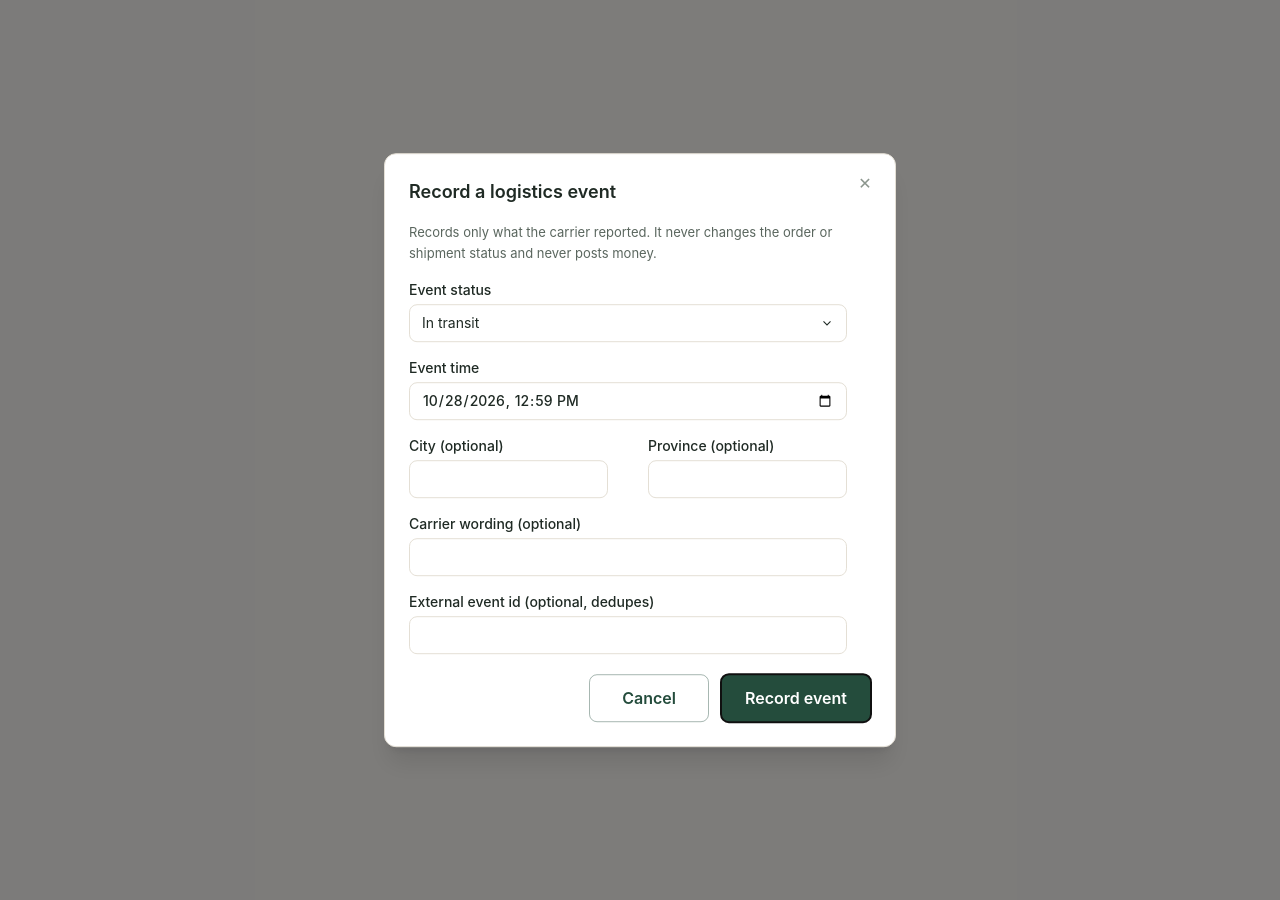
LogisticsEventDialog › keeps the dialog open and shows the server refusal
Click the button "Record event" at (796, 698), box [721, 674, 871, 722]
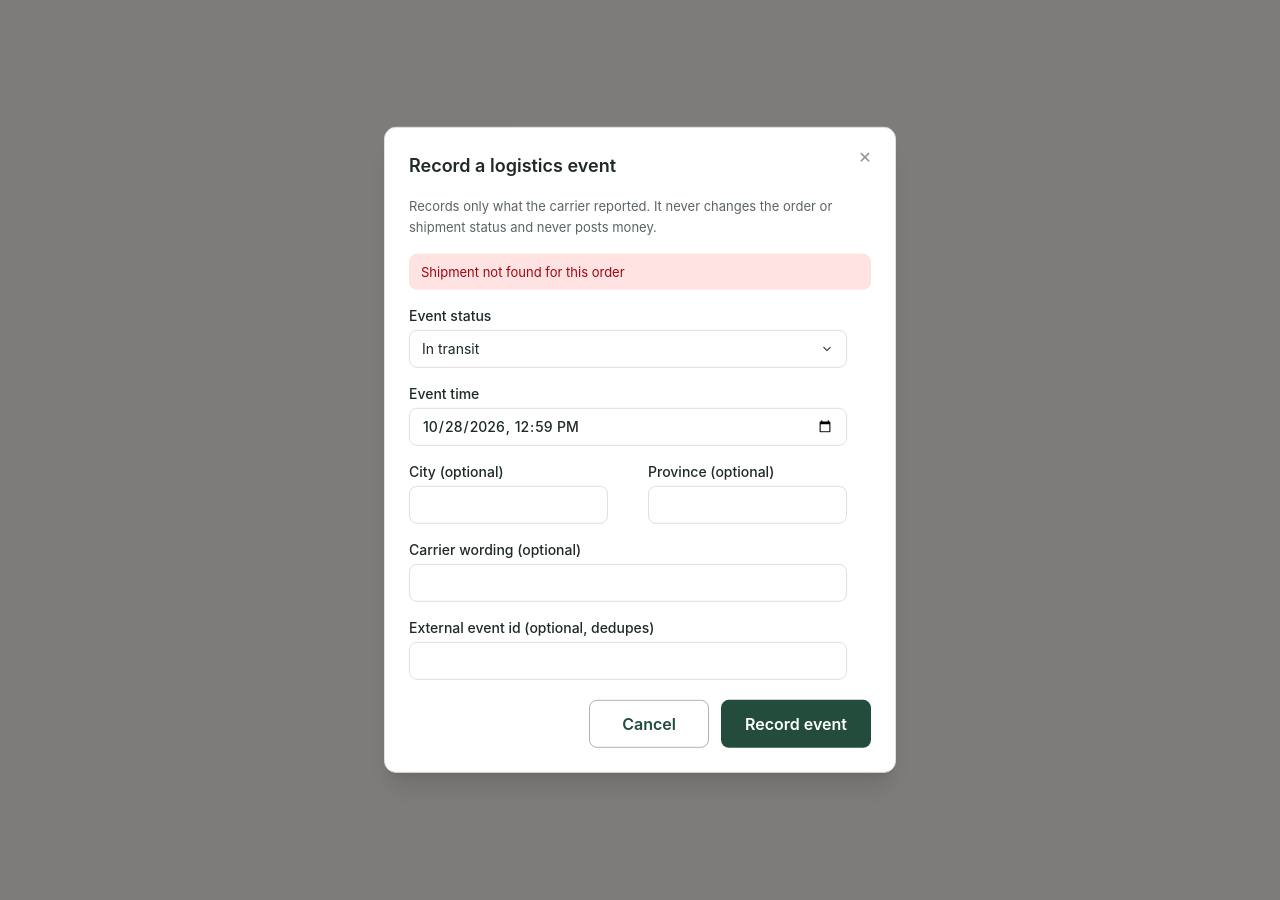
Result: the message reads "Shipment not found for this order" at [421, 263, 625, 279]
